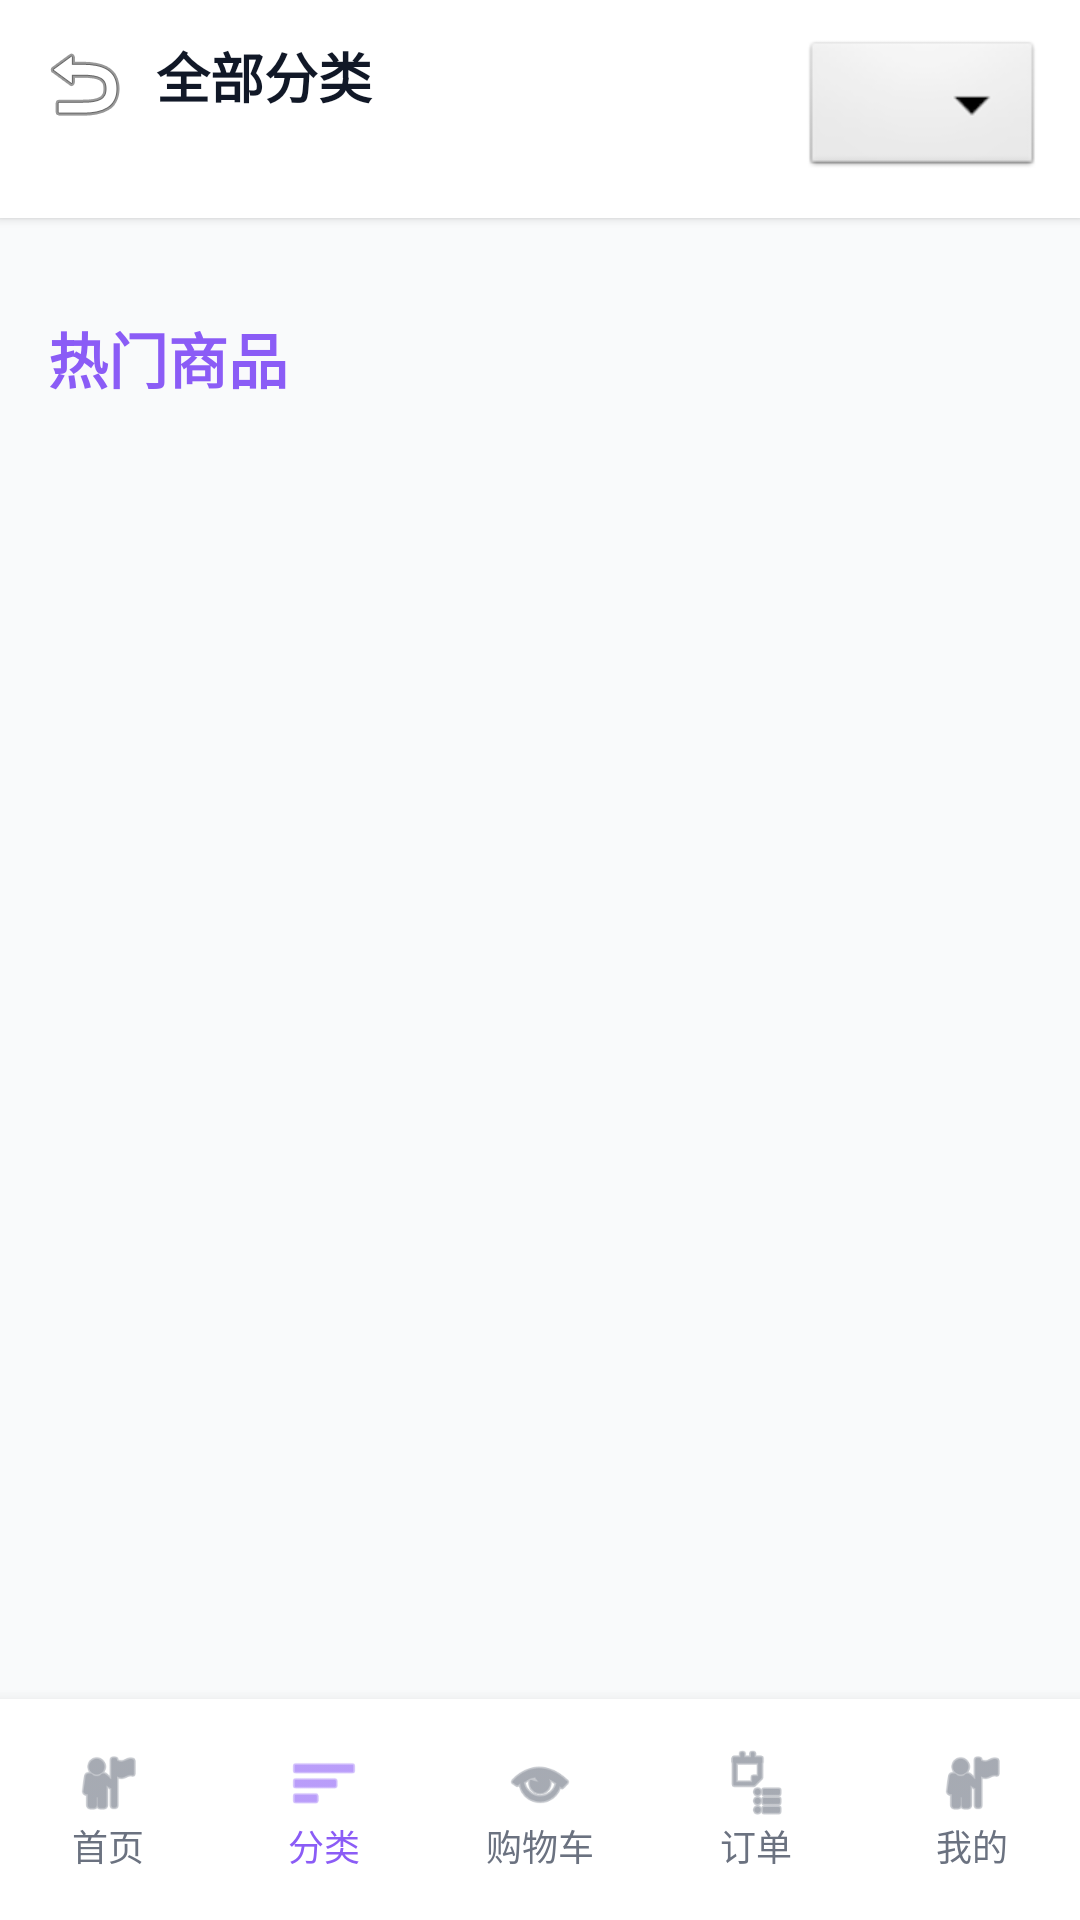

Locate icon controls on the screen. Image size 1080*1920, boxes as [left=x1, top=y1, right=x2, bottom=y2].
agenda: [left=731, top=1751, right=782, bottom=1815]
myplaces: [left=82, top=1756, right=136, bottom=1810], [left=946, top=1756, right=1000, bottom=1810]
sort by size: [left=293, top=1763, right=355, bottom=1803]
view: [left=511, top=1767, right=569, bottom=1803]
